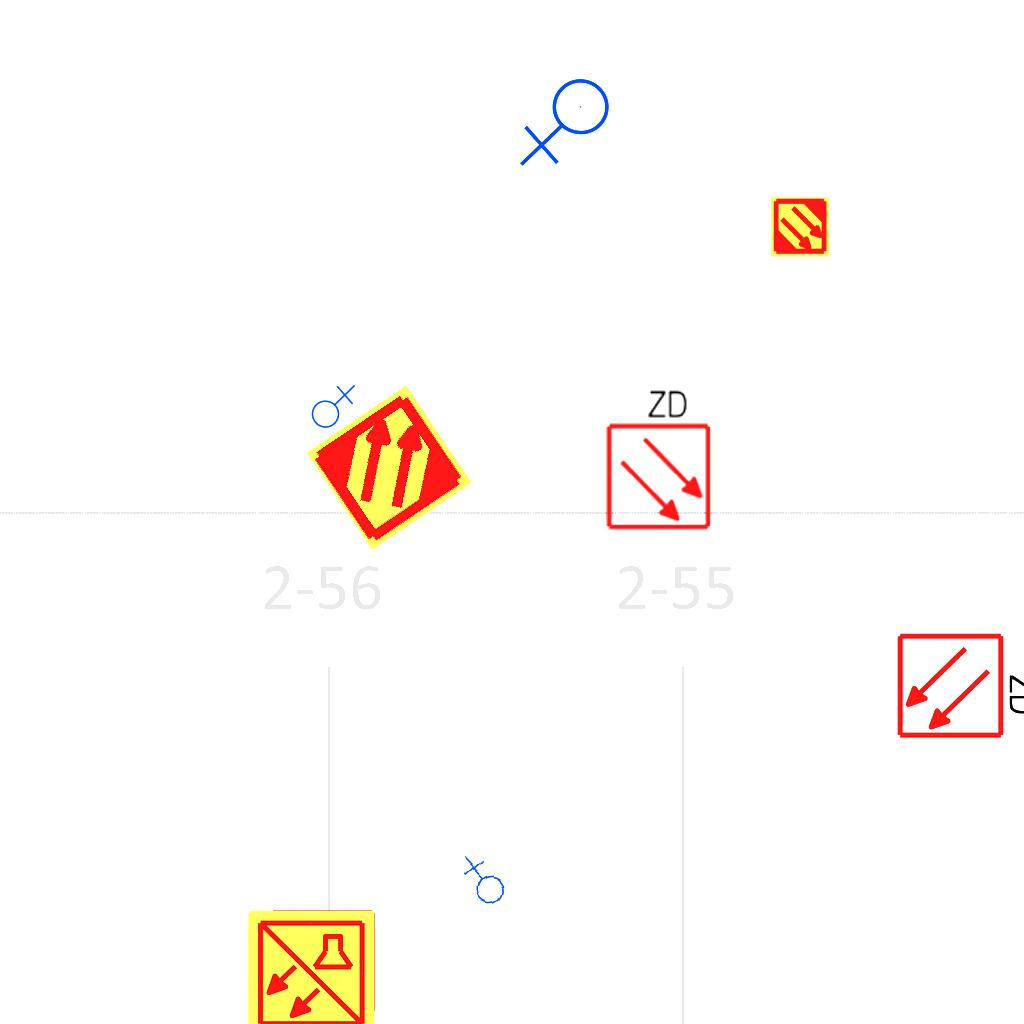ASR_Ansaugrauchmelder: (302, 380, 477, 555), (769, 196, 831, 258)
Elektroanschluss_allgemein_230V_Geraeteanschlussdose_230V: (519, 77, 618, 171), (455, 854, 510, 911), (306, 381, 357, 430)
OKW_Multisensormelder_(Kombination_optischer_Rauch-Kahlenmonoxid_Waerme-Melder): (245, 907, 377, 1024)
ZD_Melder_in_Zwischendecke_mit_Revisionsoeffnung_mind_40_x_40_cm: (600, 383, 714, 532), (895, 627, 1024, 741)
